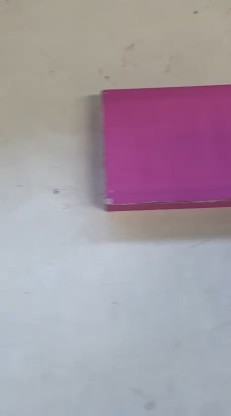pink: (69, 81, 231, 211)
